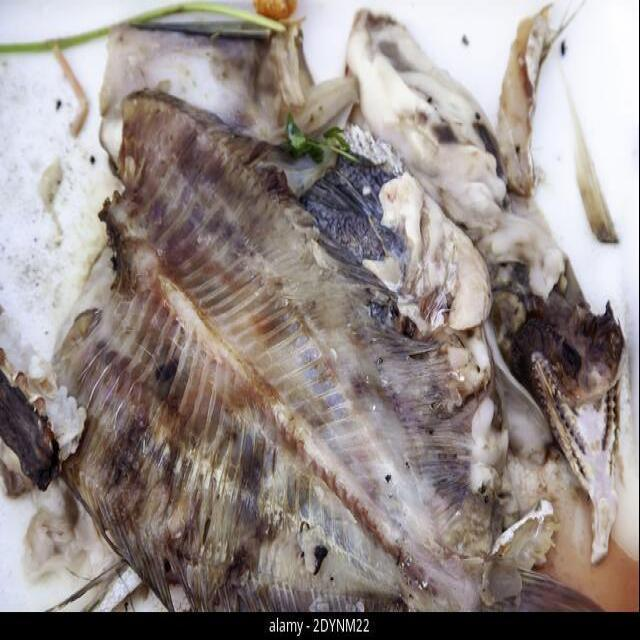cardboard: (0, 0, 637, 612)
